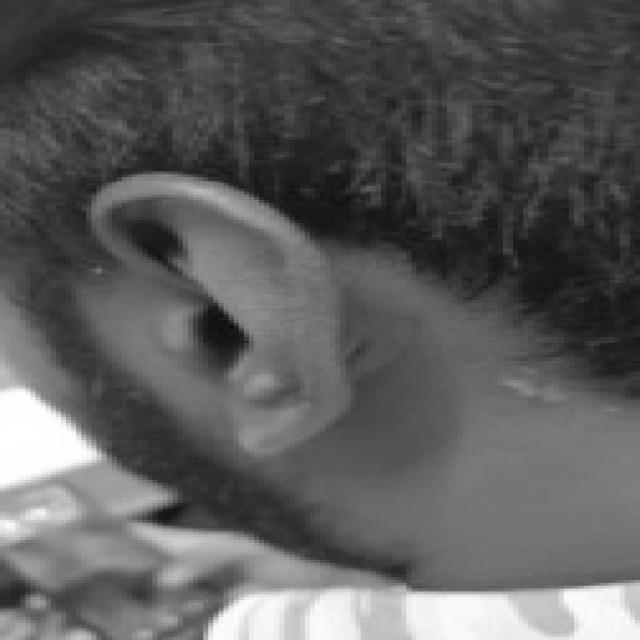ear: (97, 171, 340, 451)
